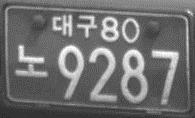0: (122, 17, 140, 45)
2: (89, 46, 118, 104)
7: (149, 48, 180, 106)
8: (119, 47, 150, 104), (101, 14, 119, 44)
9: (57, 44, 85, 100)
노: (14, 43, 49, 79)
대구_O: (50, 12, 96, 37)
